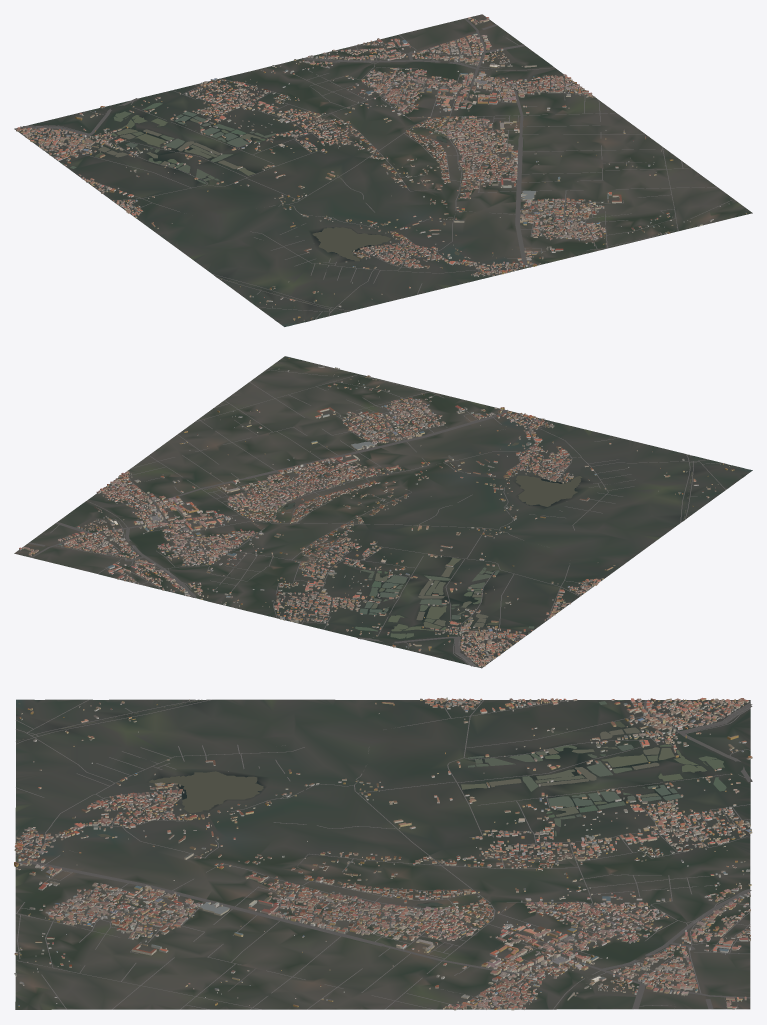
The picture shows the model from 3 angles, top to bottom: view 1: azimuth 30°, elevation 25°; view 2: azimuth 150°, elevation 25°; view 3: azimuth 270°, elevation 25°; orthographic projection. The views are drawn at different scales.
Visible parts, largest first — view 1: ground, buildings, roads, water; view 2: ground, buildings, roads, water; view 3: ground, buildings, roads, water.
Boxes of the visible parts, x1=… form: ground: x1=14, y1=14, x2=752, y2=326; buildings: x1=16, y1=17, x2=746, y2=320; roads: x1=16, y1=18, x2=732, y2=319; water: x1=61, y1=102, x2=459, y2=325; ground: x1=14, y1=356, x2=752, y2=668; buildings: x1=19, y1=357, x2=734, y2=666; roads: x1=19, y1=370, x2=725, y2=667; water: x1=285, y1=442, x2=746, y2=638; ground: x1=15, y1=699, x2=750, y2=1009; buildings: x1=14, y1=697, x2=752, y2=1010; roads: x1=16, y1=699, x2=752, y2=1009; water: x1=16, y1=699, x2=726, y2=906.
Size of the model in its own units: 2813 by 23.75 by 2820.
